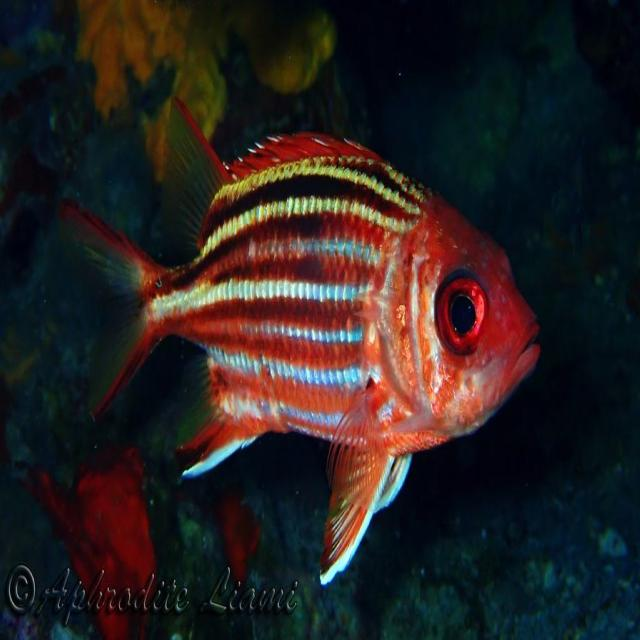Asker Baligi: (50, 73, 556, 588)
